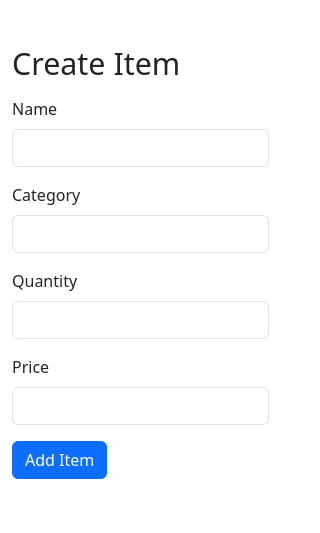
Scenario: CreateItem Component › handles form submission error
This screenshot has width=320, height=533.
# Fill out required fields
Type "Test Item" into the field labelled "Name". click: (140, 148)
box: [12,129,269,167]
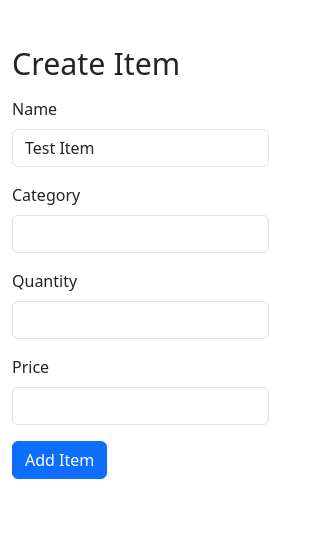
Type "Test Category" into the field labelled "Category". click: (140, 234)
box: [12,215,269,253]
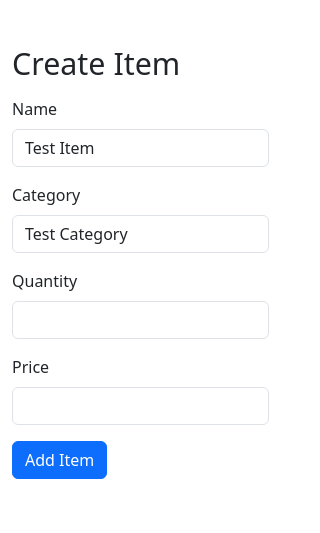
Type "10" into the number field labelled "Quantity". click: (140, 320)
box: [12,301,269,339]
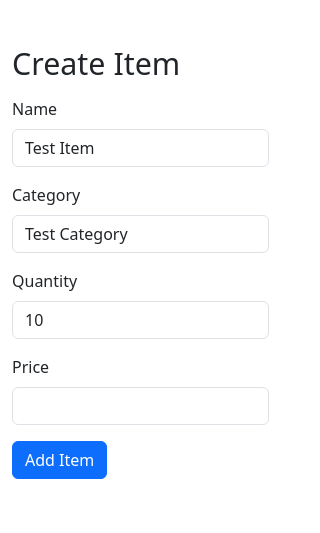
Type "19.99" into the number field labelled "Price". click: (140, 406)
box: [12,387,269,425]
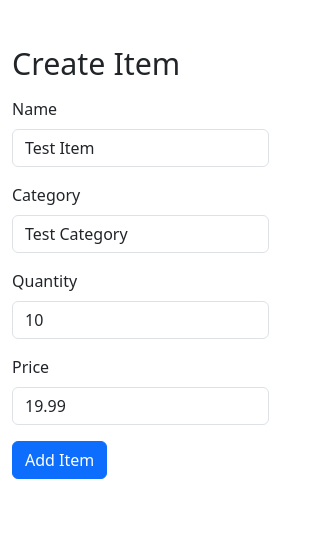
# Submit the form
Click the button "Add Item". click: (60, 460)
box: [12,441,107,479]
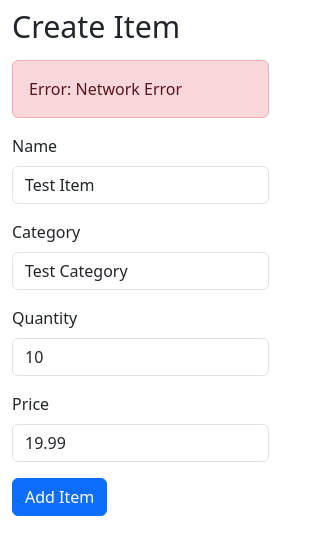
Check: the text "Error: Network Error" is shown, box [12,60,269,118]
